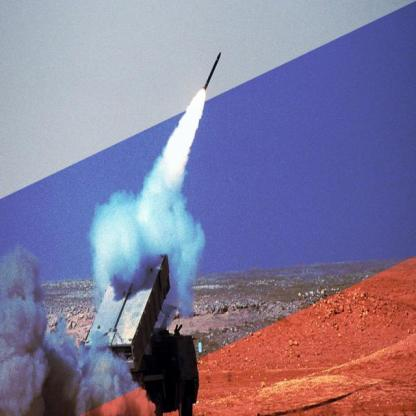MIL_TBM: (201, 46, 225, 96)
